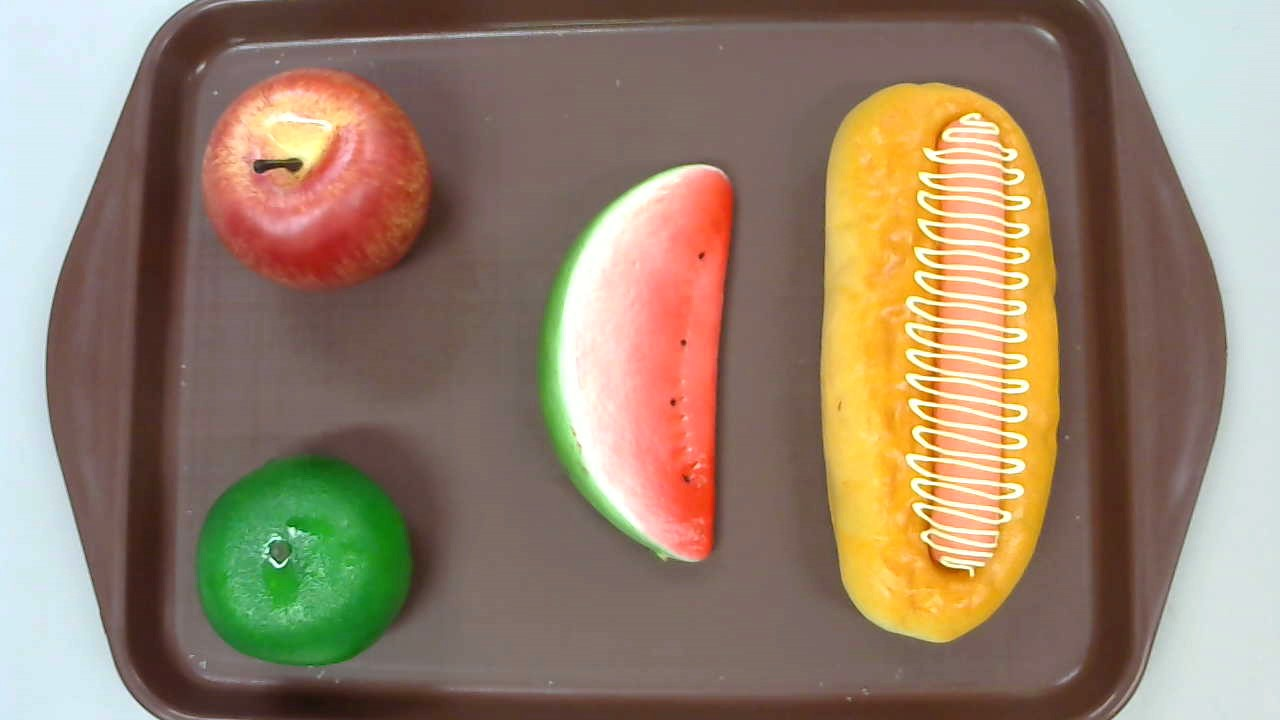green orange: (194, 453, 412, 665)
hot dog: (818, 82, 1061, 642)
red apple: (201, 67, 433, 294)
watermelon: (535, 164, 735, 563)
